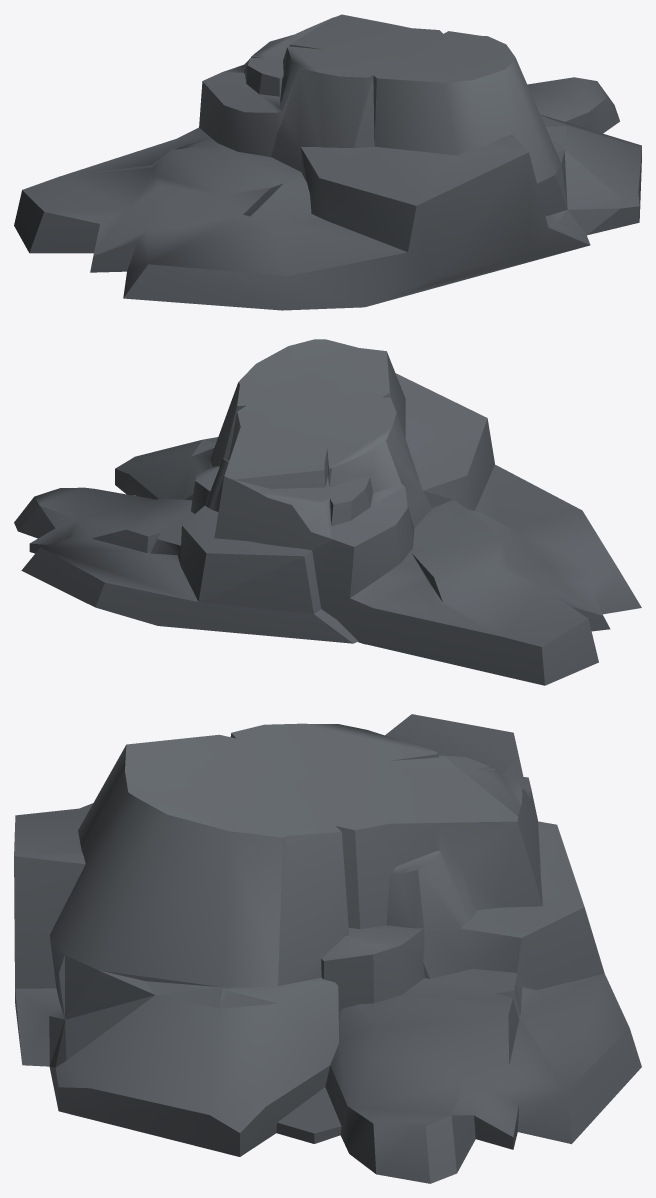
The model's file is Rock_7.fbx.
The picture shows the model from 3 angles, top to bottom: view 1: azimuth 30°, elevation 25°; view 2: azimuth 150°, elevation 25°; view 3: azimuth 270°, elevation 25°; orthographic projection. The views are drawn at different scales.
Visible parts, largest first — view 1: Rock_7; view 2: Rock_7; view 3: Rock_7.
Part boxes in pixels (left/top/right/bottom): Rock_7: left=14, top=14, right=641, bottom=310; Rock_7: left=14, top=339, right=641, bottom=685; Rock_7: left=14, top=714, right=641, bottom=1183.
Bounding box in the file's own units: 1091 × 299 × 686.
